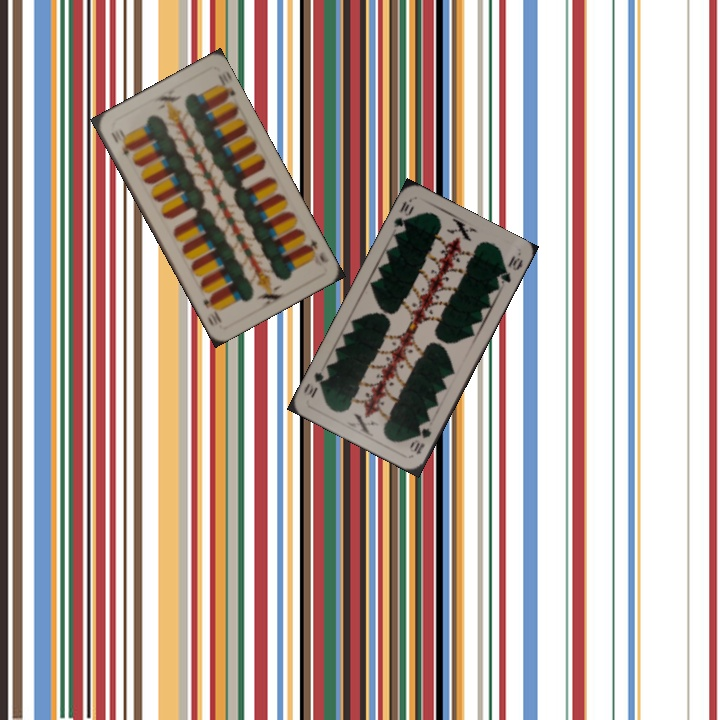E10: (301, 234, 331, 266), (107, 126, 132, 158)
G10: (389, 197, 417, 236), (410, 424, 434, 458)
